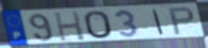3: (114, 8, 139, 38)
9: (28, 13, 56, 43)
H: (52, 10, 87, 43)
I: (151, 8, 165, 36)
O: (83, 10, 115, 40)
P: (167, 6, 196, 36)
